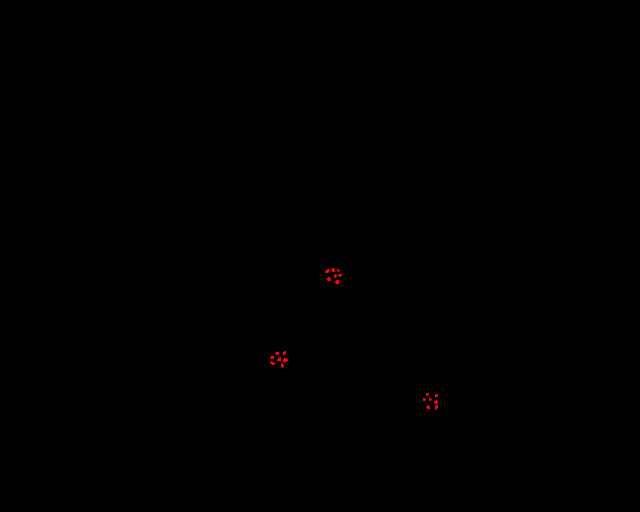Target: (335, 280, 340, 285), (283, 358, 288, 363), (325, 269, 330, 273), (270, 361, 275, 365), (331, 268, 335, 272), (327, 277, 331, 281), (277, 357, 281, 361), (434, 400, 438, 404), (426, 405, 430, 409), (281, 363, 284, 368), (435, 405, 438, 410), (334, 274, 337, 278), (338, 274, 342, 277), (283, 351, 286, 355), (275, 352, 279, 355), (270, 356, 274, 359), (337, 269, 340, 272), (426, 393, 429, 396), (435, 394, 438, 397), (423, 398, 426, 401), (429, 398, 432, 401)
